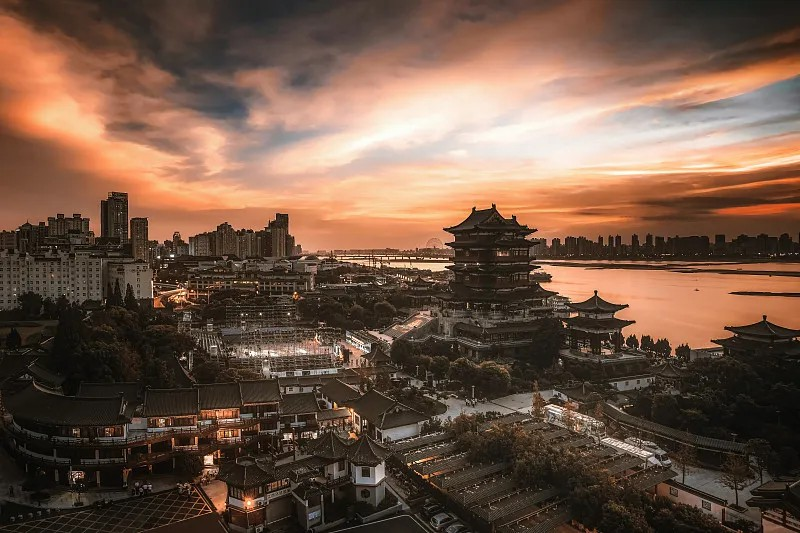Teng: (443, 204, 542, 302)
